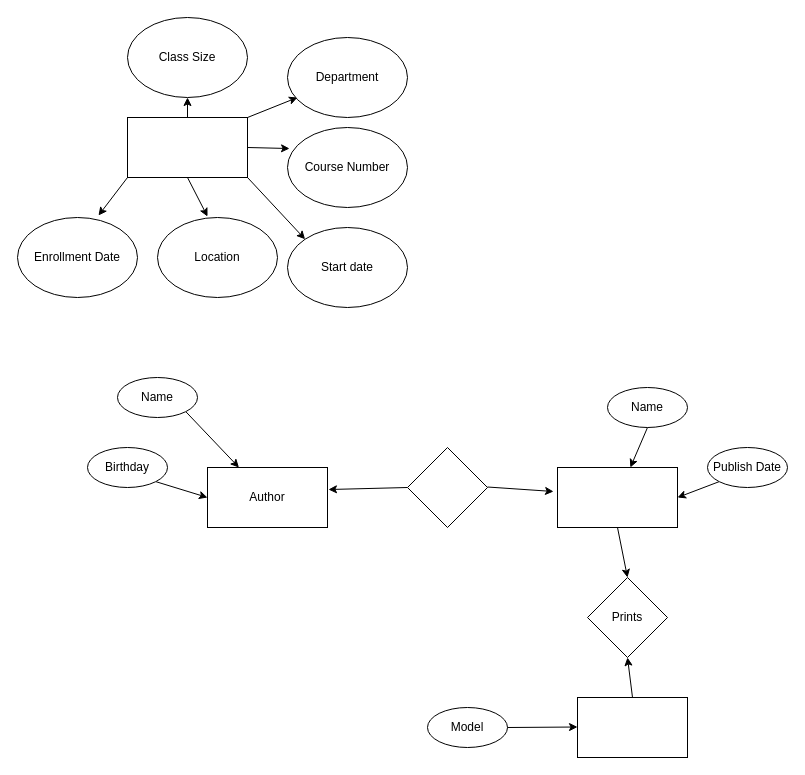
Image size: 805x775. Some labels were removed from this diagram. Here are the shapes that lost their labels. From the top down, the box of each, then its label:
(126, 116, 248, 178): Course
(406, 446, 488, 528): Writes
(556, 466, 678, 528): Book
(576, 696, 688, 758): Printer
